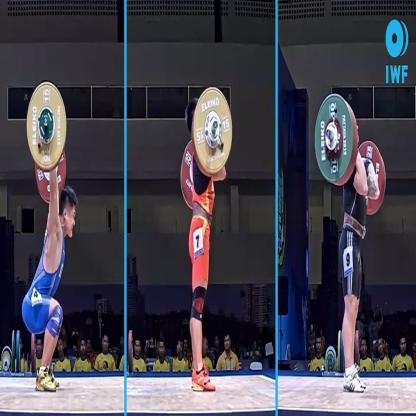barbell: (314, 92, 386, 214), (180, 86, 229, 208), (27, 82, 67, 170)
